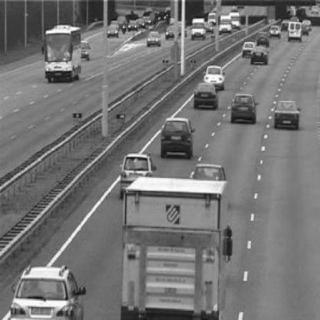other: (118, 170, 238, 318)
